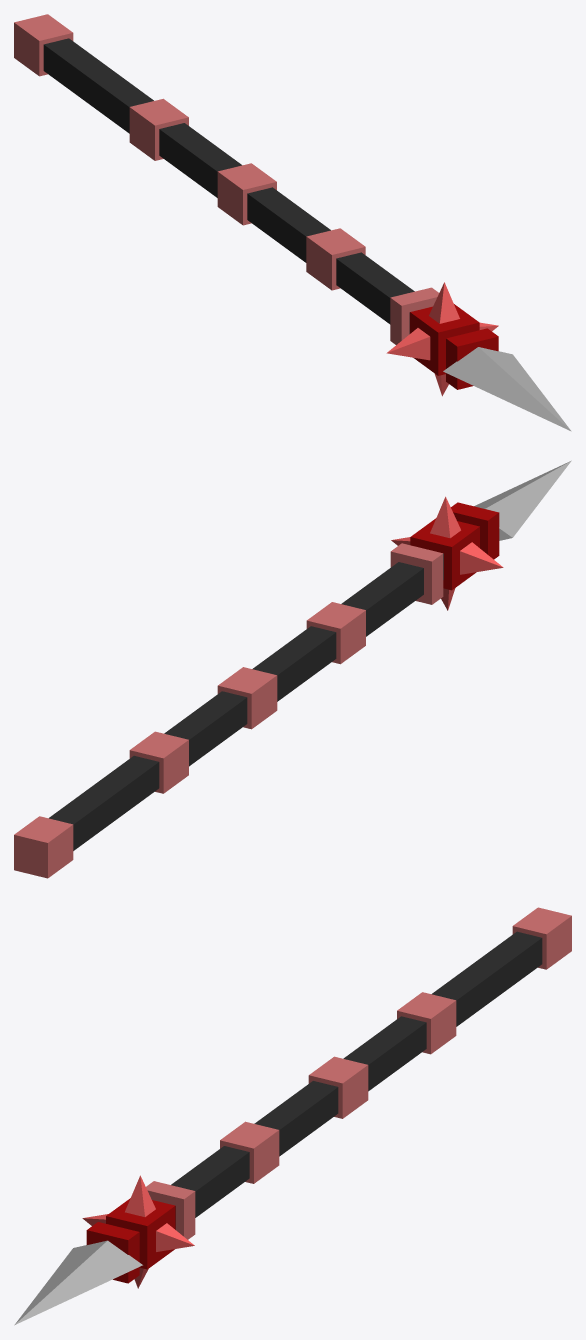
The model's file is Spear 03.FBX.
3 views of the same model, one above another, from view 1: azimuth 30°, elevation 25°; view 2: azimuth 150°, elevation 25°; view 3: azimuth 330°, elevation 25° (orthographic).
Parts seen in each view (by area): view 1: Spear 03; view 2: Spear 03; view 3: Spear 03.
Part boxes in pixels (x1,y1,x2,y2): Spear 03: (14, 14, 571, 431); Spear 03: (14, 460, 571, 878); Spear 03: (14, 907, 571, 1325).
Size of the model in its own units: 21.02 by 20.32 by 174.
